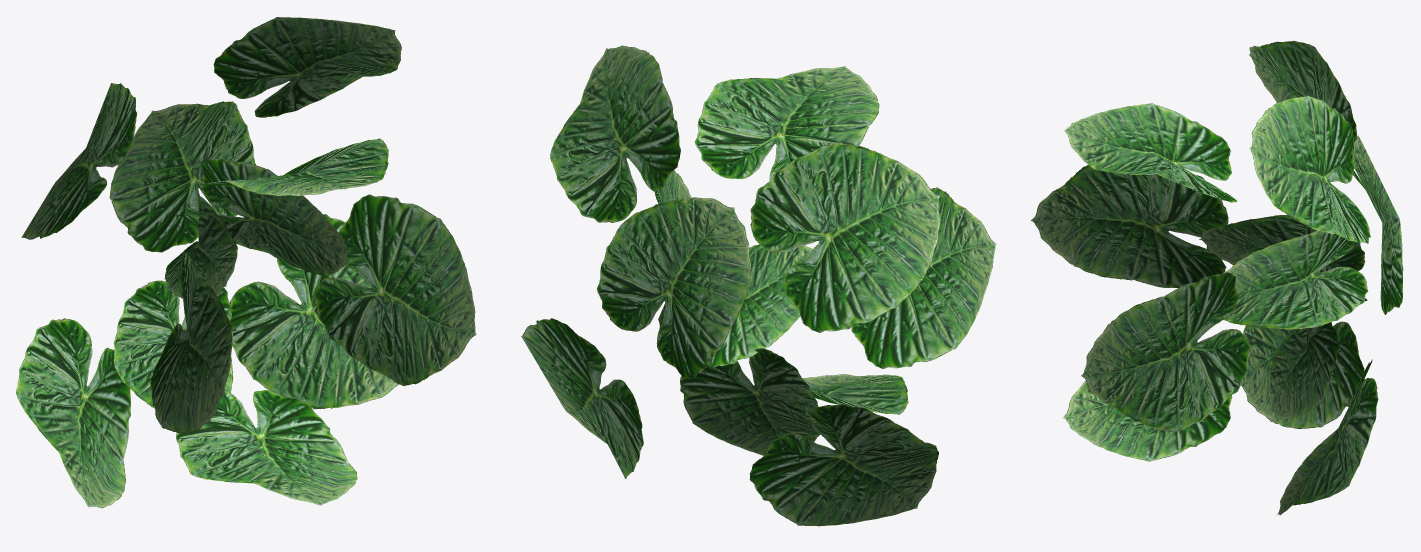
Rendered from ElephantEar.FBX.
The picture shows the model from 3 angles, left to right: view 1: azimuth 30°, elevation 25°; view 2: azimuth 150°, elevation 25°; view 3: azimuth 270°, elevation 25°; orthographic projection. The views are drawn at different scales.
Visible parts, largest first — view 1: ElephantEar; view 2: ElephantEar; view 3: ElephantEar.
Boxes of the visible parts, x1,y1,x2,y2 form: ElephantEar: [16, 17, 476, 508]; ElephantEar: [521, 45, 996, 526]; ElephantEar: [1031, 40, 1403, 515].
Bounding box in the file's own units: 2.78 × 2.84 × 2.1.
